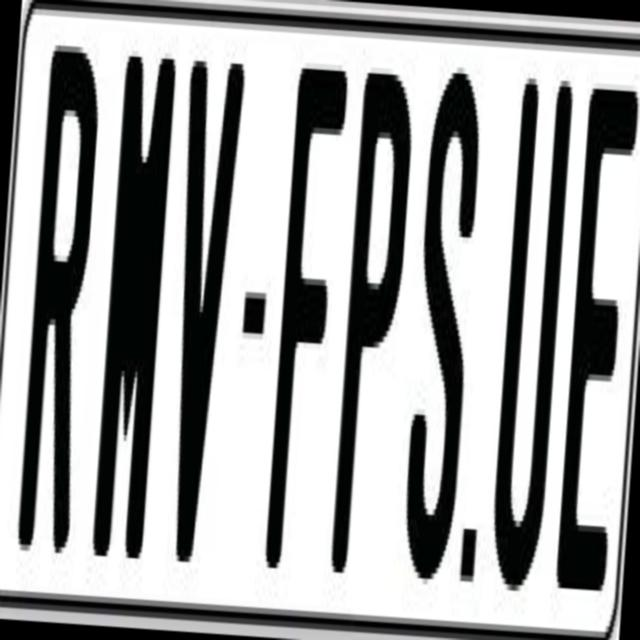E: (556, 76, 634, 584)
F: (260, 56, 352, 565)
M: (90, 39, 178, 552)
P: (326, 54, 419, 570)
R: (9, 39, 102, 576)
S: (398, 54, 490, 586)
U: (488, 61, 580, 586)
V: (154, 60, 252, 587)
